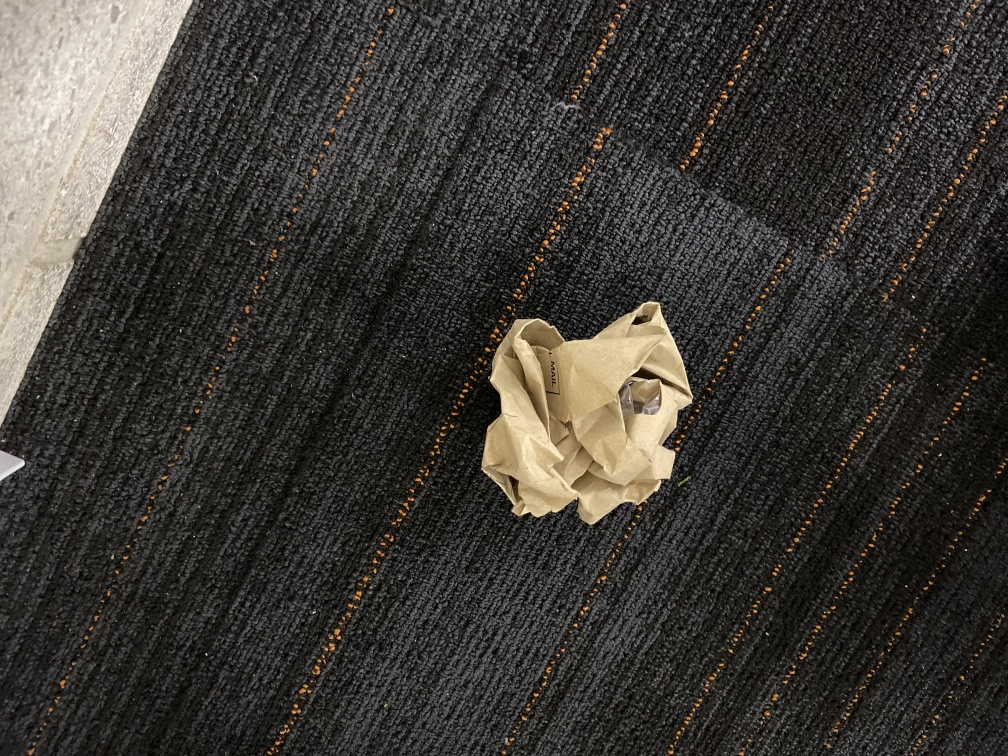paper_brown: (469, 299, 699, 529)
